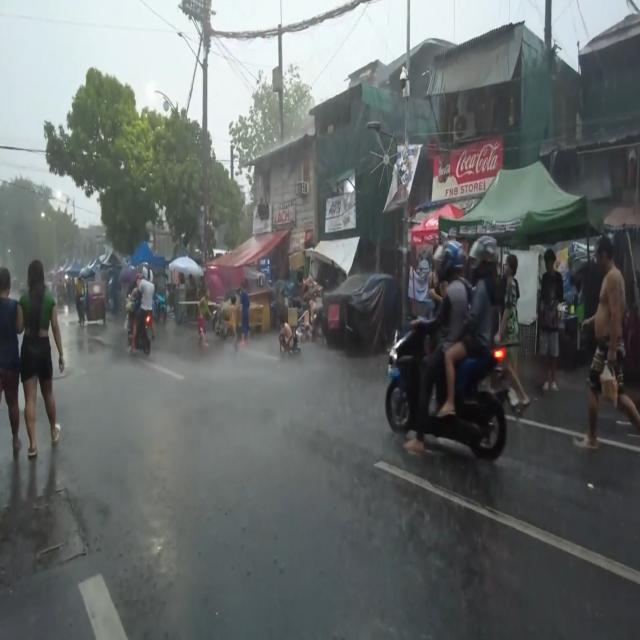full: (468, 237, 500, 286), (433, 239, 465, 283)
half: (142, 265, 154, 283)
